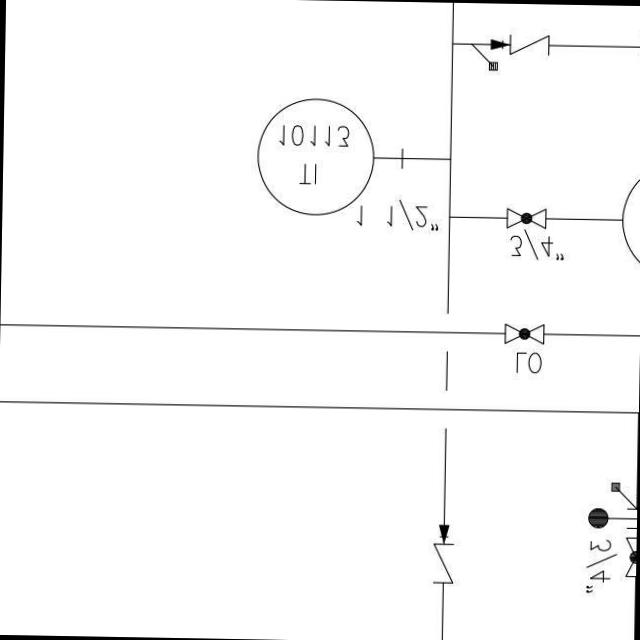BV2: (498, 201, 552, 233), (496, 320, 554, 348)
